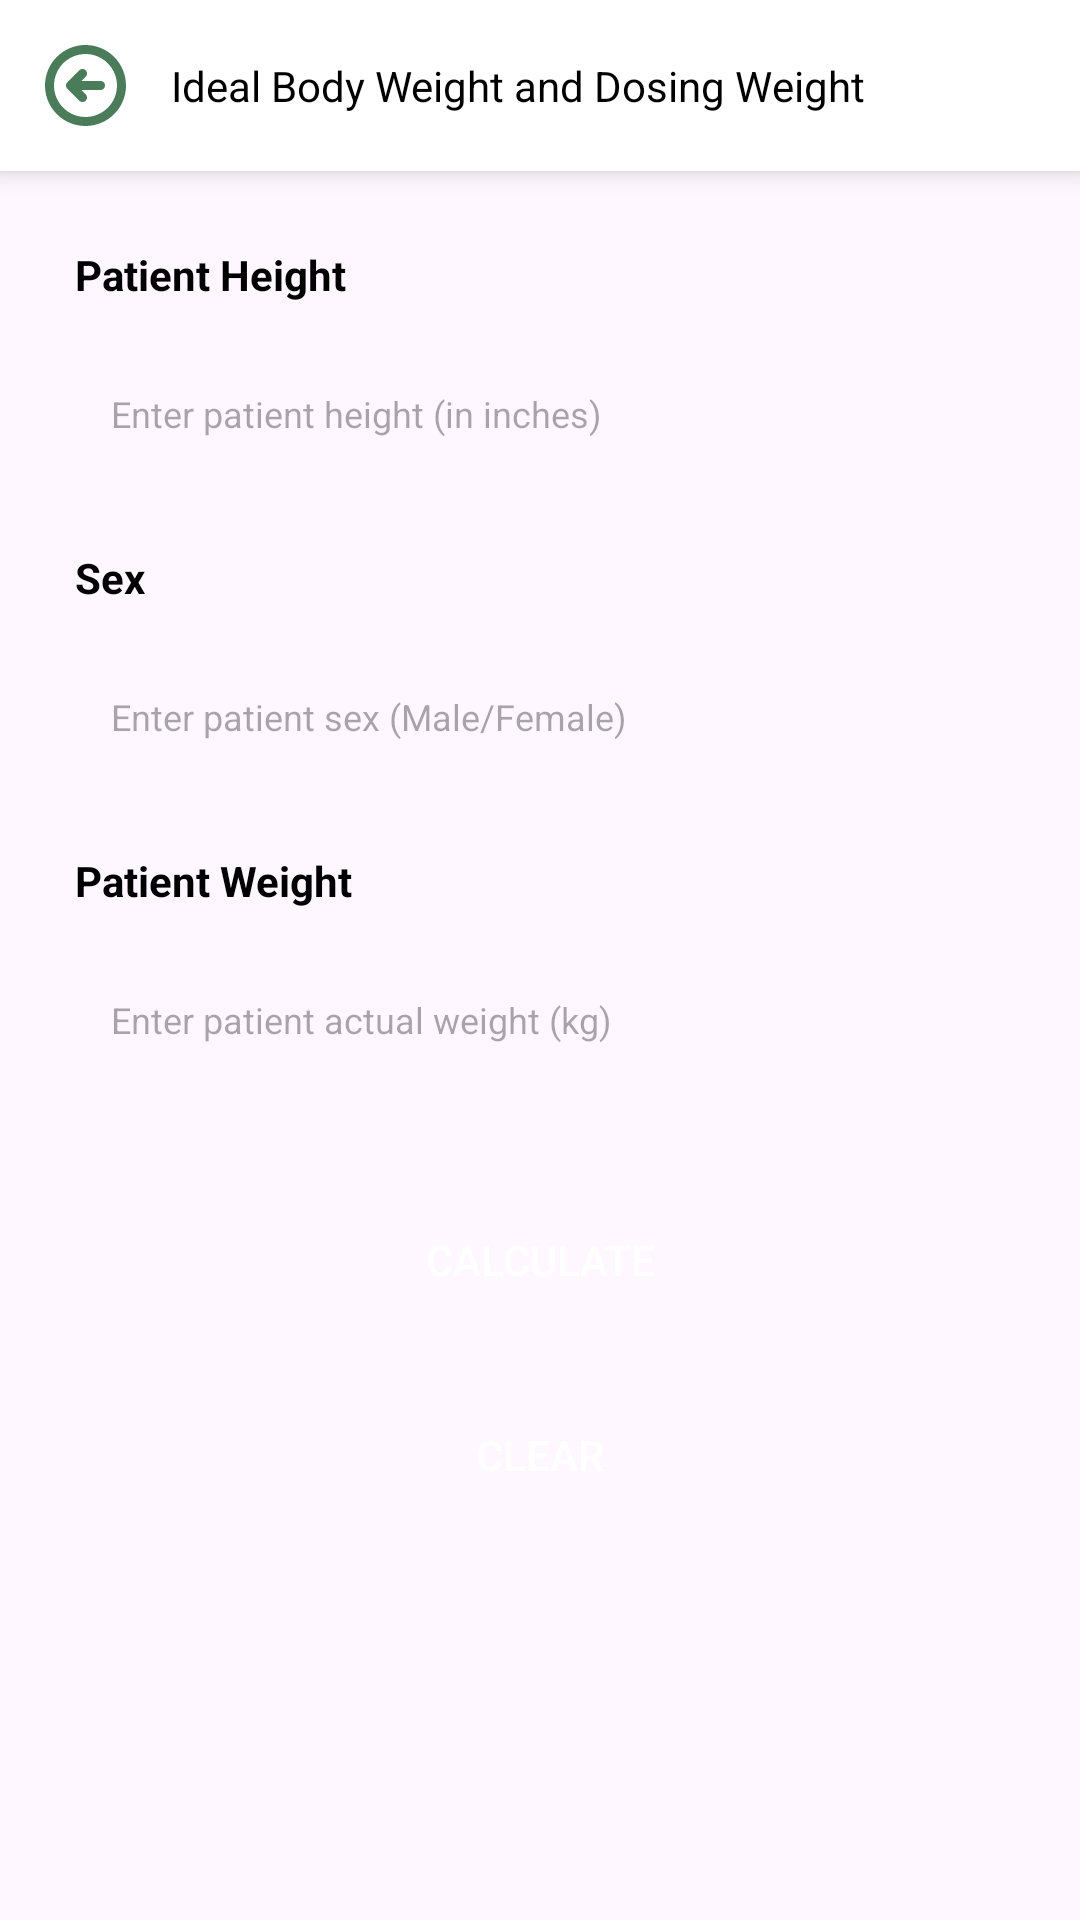

Where to tap for icons on this 1080×1920 app screen, as [x,y]:
arrow back: [85,85]
